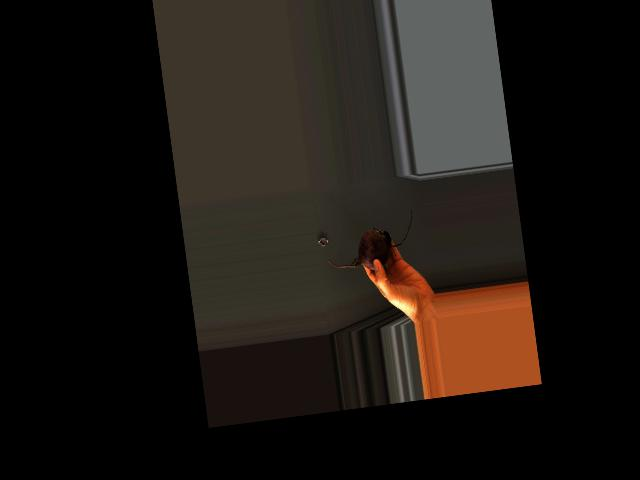beet: (322, 208, 419, 276)
